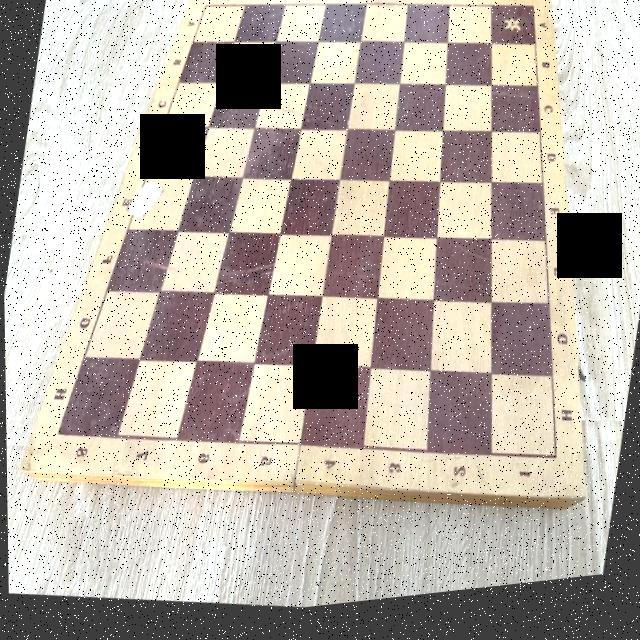chess-table-corners: (544, 456, 565, 484), (197, 0, 214, 23), (48, 424, 65, 446), (528, 11, 540, 27)
